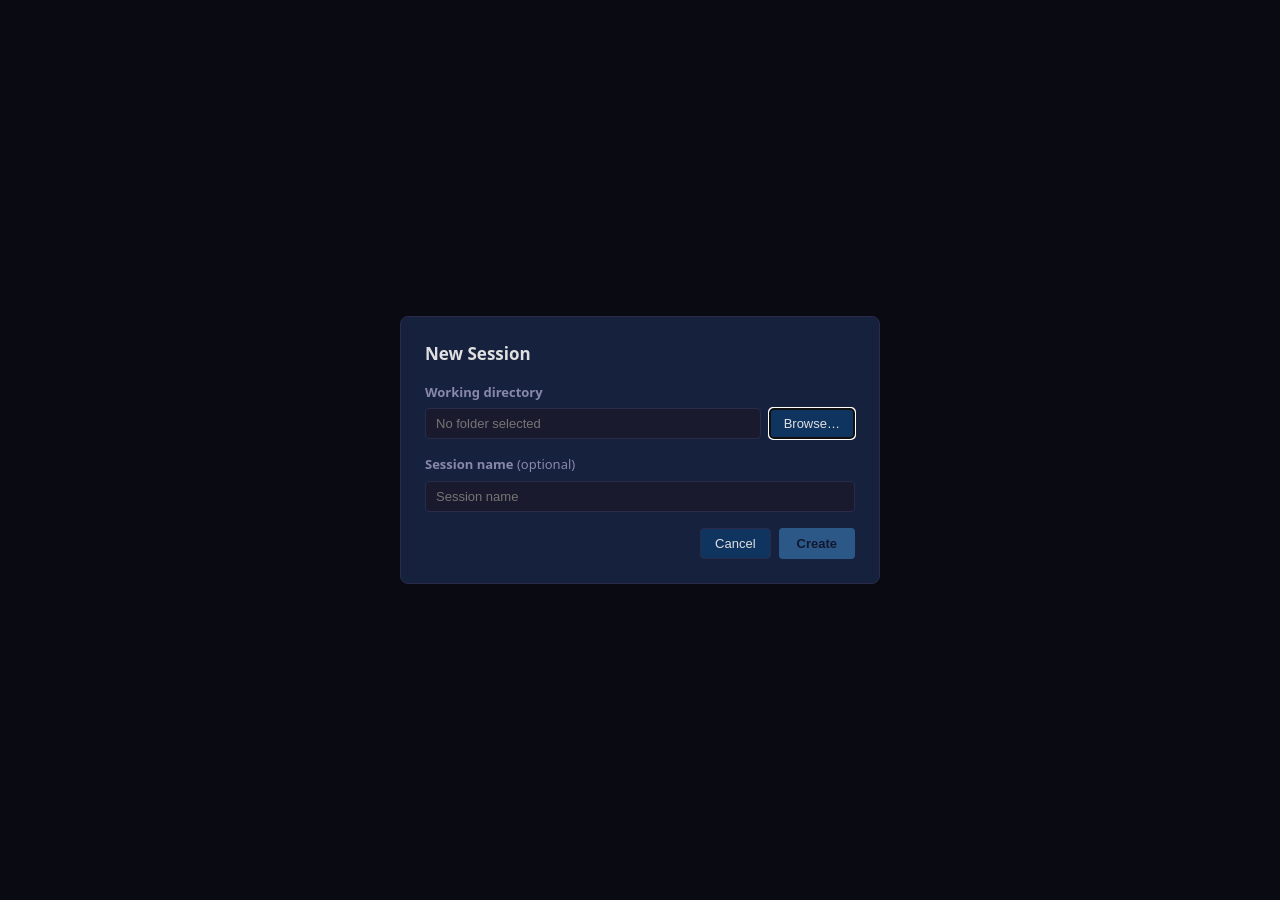
NewSessionDialog › Create button is enabled after a folder is chosen
The width and height of the screenshot is (1280, 900).
What coordinates should you click on to do the following:
click the button "Browse…"
I would click on:
 (812, 424)
Its box is [769,408,855,439].
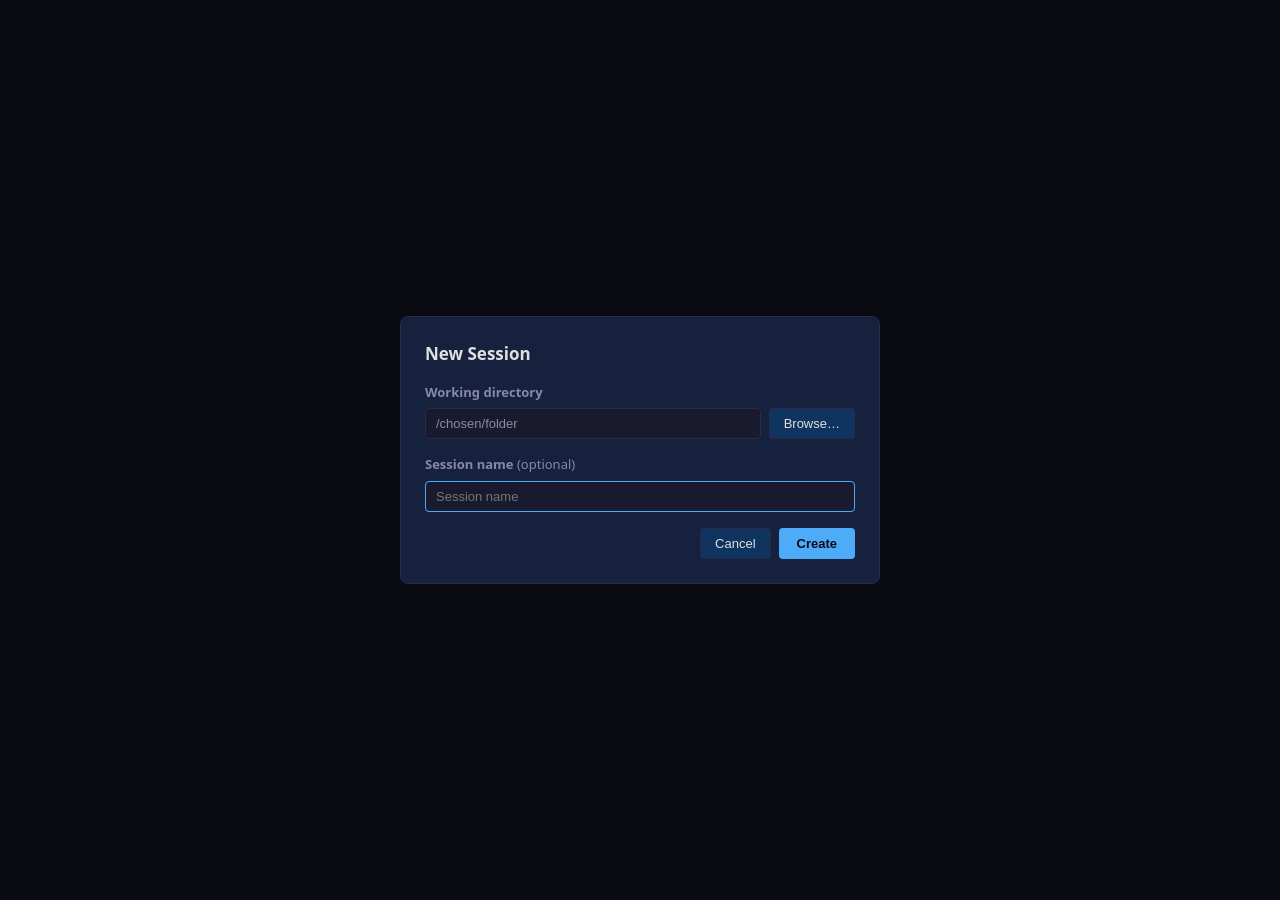
Expected: the button "Create" is enabled, [778,528,855,559]
